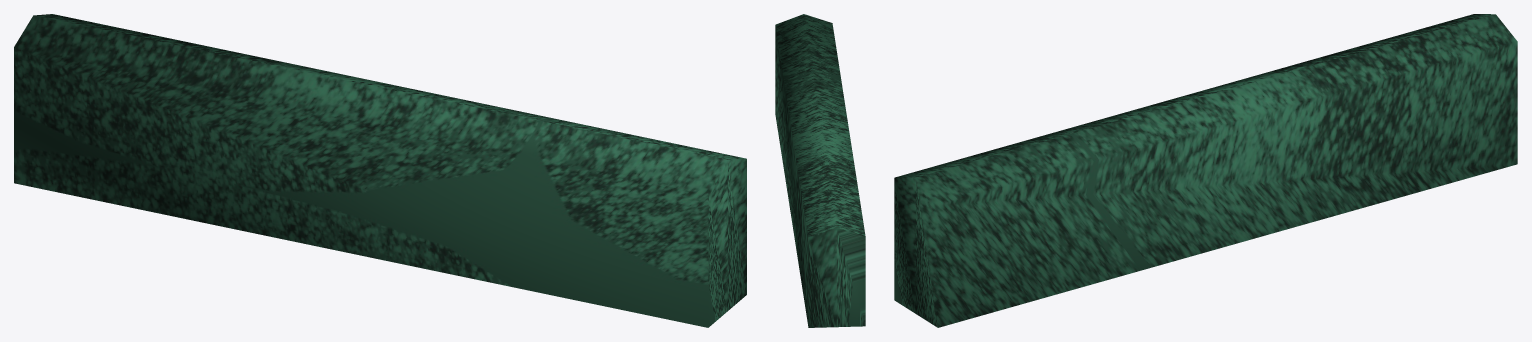
The model's file is Ring6W2.fbx.
3 views of the same model, side by side, from view 1: azimuth 30°, elevation 25°; view 2: azimuth 150°, elevation 25°; view 3: azimuth 270°, elevation 25° (orthographic). The views are drawn at different scales.
Parts seen in each view (by area): view 1: Ring6W2; view 2: Ring6W2; view 3: Ring6W2.
Boxes of the visible parts, x1,y1,x2,y2 form: Ring6W2: (14, 14, 746, 327); Ring6W2: (775, 14, 865, 327); Ring6W2: (894, 14, 1517, 327).
Size of the model in its own units: 1205 by 400 by 1659.
